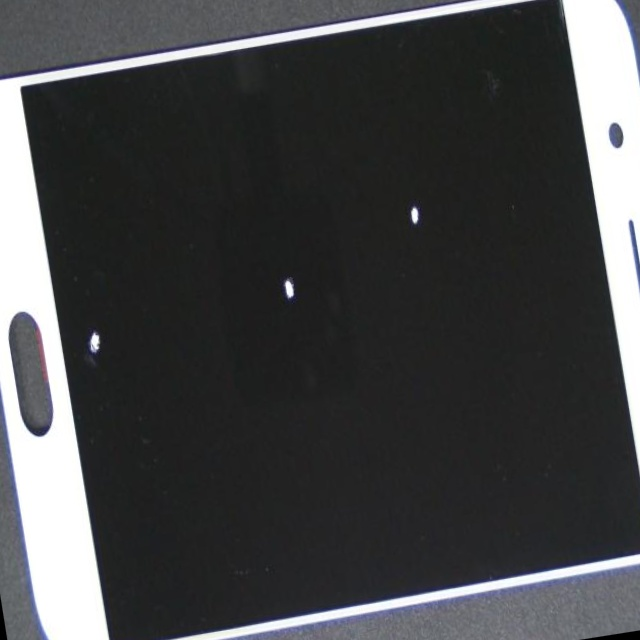stain: (105, 16, 473, 457), (183, 63, 640, 413), (3, 84, 178, 517)
